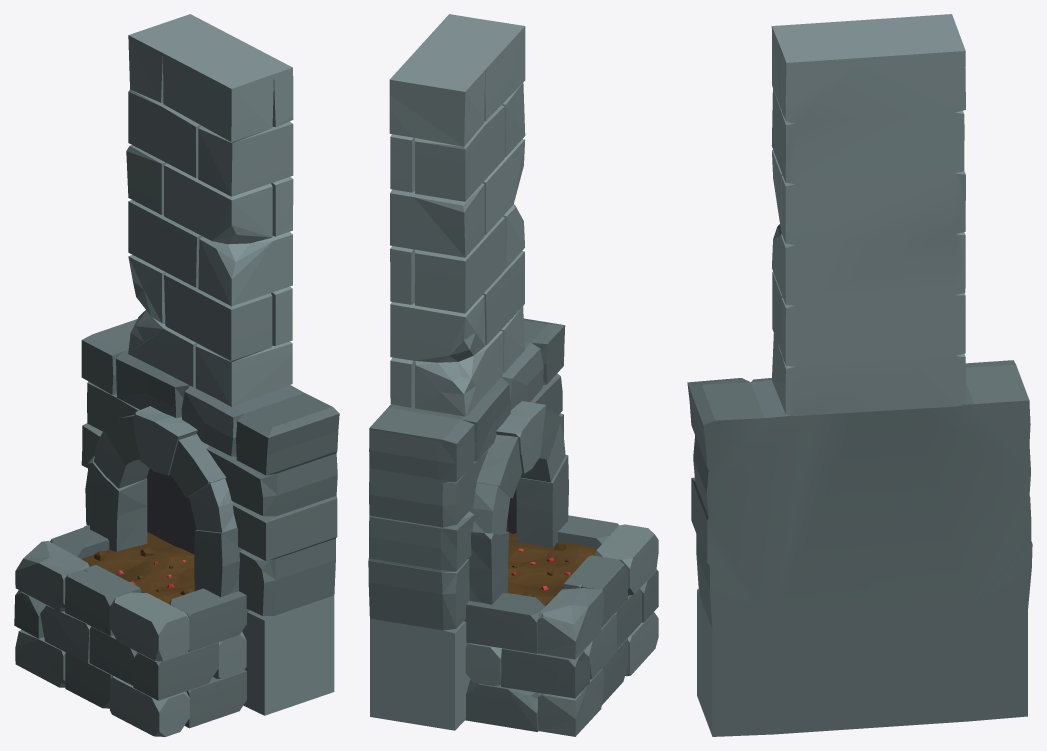
File: Blacksmith.fbx
3 views of the same model, side by side, from view 1: azimuth 30°, elevation 25°; view 2: azimuth 150°, elevation 25°; view 3: azimuth 270°, elevation 25° (orthographic). The views are drawn at different scales.
Parts seen in each view (by area): view 1: Blacksmith; view 2: Blacksmith; view 3: Blacksmith.
Part boxes in pixels (box(x1,y1,x2,y2)): Blacksmith: box(14, 14, 339, 736); Blacksmith: box(368, 14, 658, 736); Blacksmith: box(687, 14, 1032, 736).
Bounding box in the file's own units: 170 × 468 × 218.
